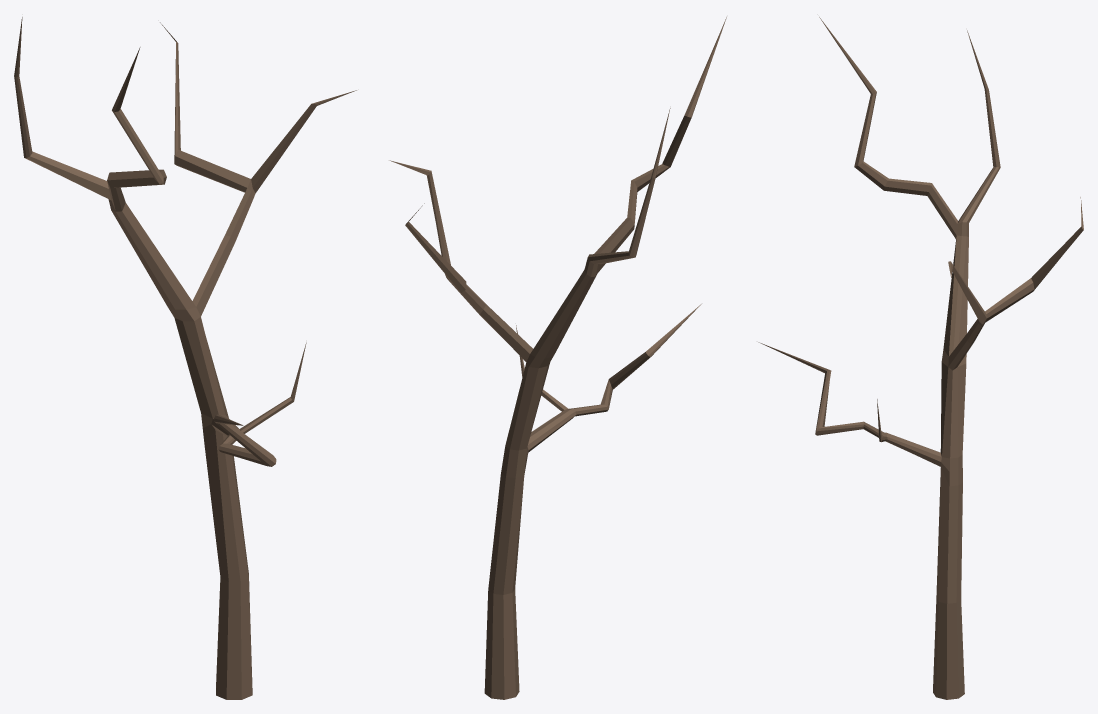
File: Tree_3.fbx
3 renders of one model, left to right at view 1: azimuth 30°, elevation 25°; view 2: azimuth 150°, elevation 25°; view 3: azimuth 270°, elevation 25°, orthographic. The views are drawn at different scales.
Parts seen in each view (by area): view 1: Tree_3; view 2: Tree_3; view 3: Tree_3.
Part boxes in pixels (box(x1,y1,x2,y2)): Tree_3: box(14, 17, 356, 699); Tree_3: box(389, 17, 726, 699); Tree_3: box(758, 17, 1083, 699).
Bounding box in the file's own units: 205 × 218 × 447.
